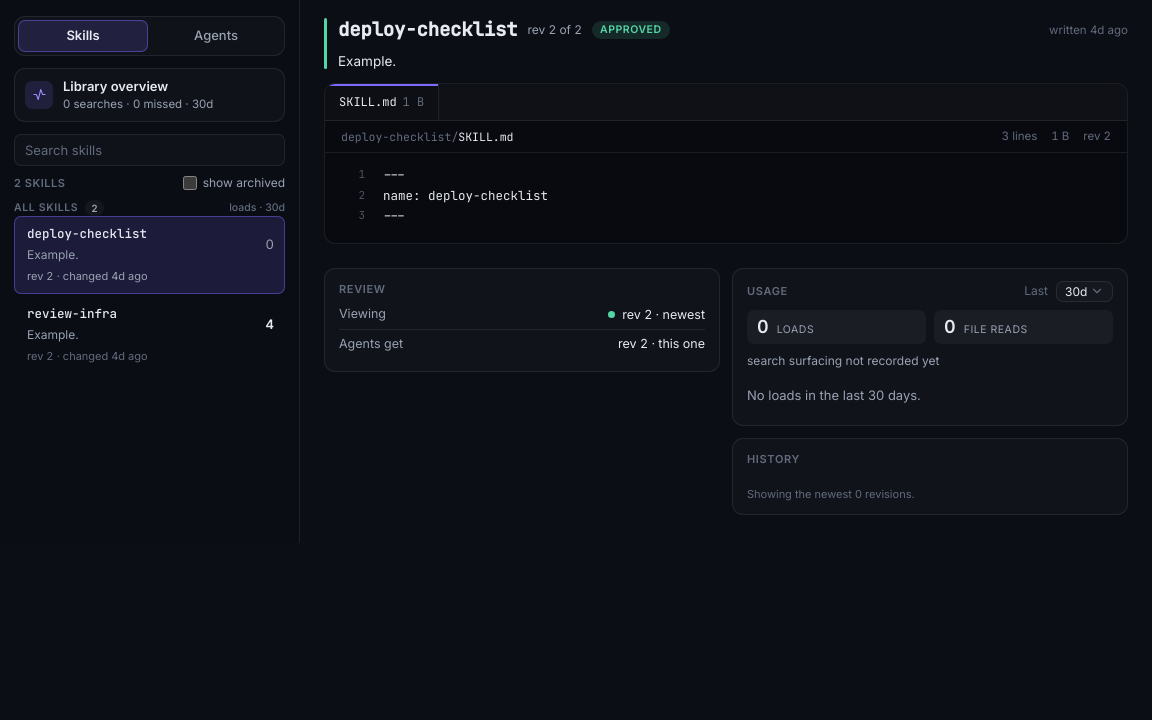
Test: SkillsPage › shows library usage in place of a skill, and the overview row returns to it
Expected: the heading "deploy-checklist" is shown, x1=338 y1=16 x2=517 y2=44
Click the button "Library overview 0 searches · 0 missed · 30d": (150, 95) x1=14 y1=68 x2=285 y2=122
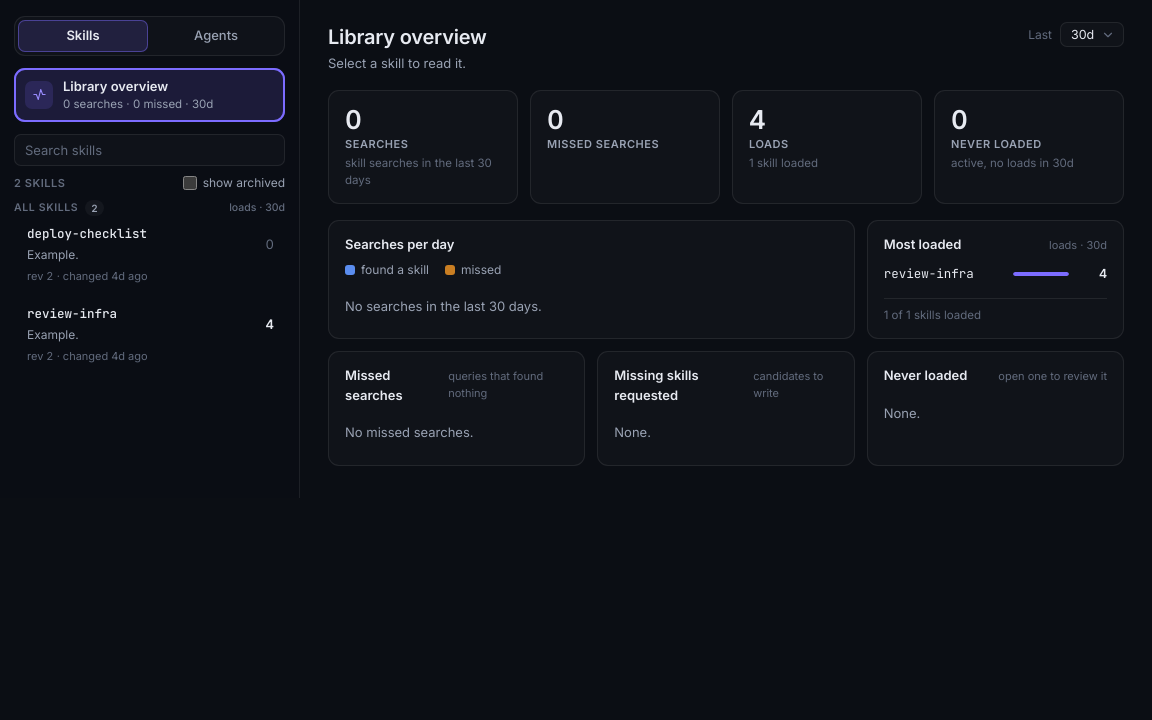
Expected: the element named "Library usage" is shown, x1=300 y1=0 x2=1151 y2=498
Expected: the text "Select a skill to read it." is shown, x1=328 y1=54 x2=487 y2=74
